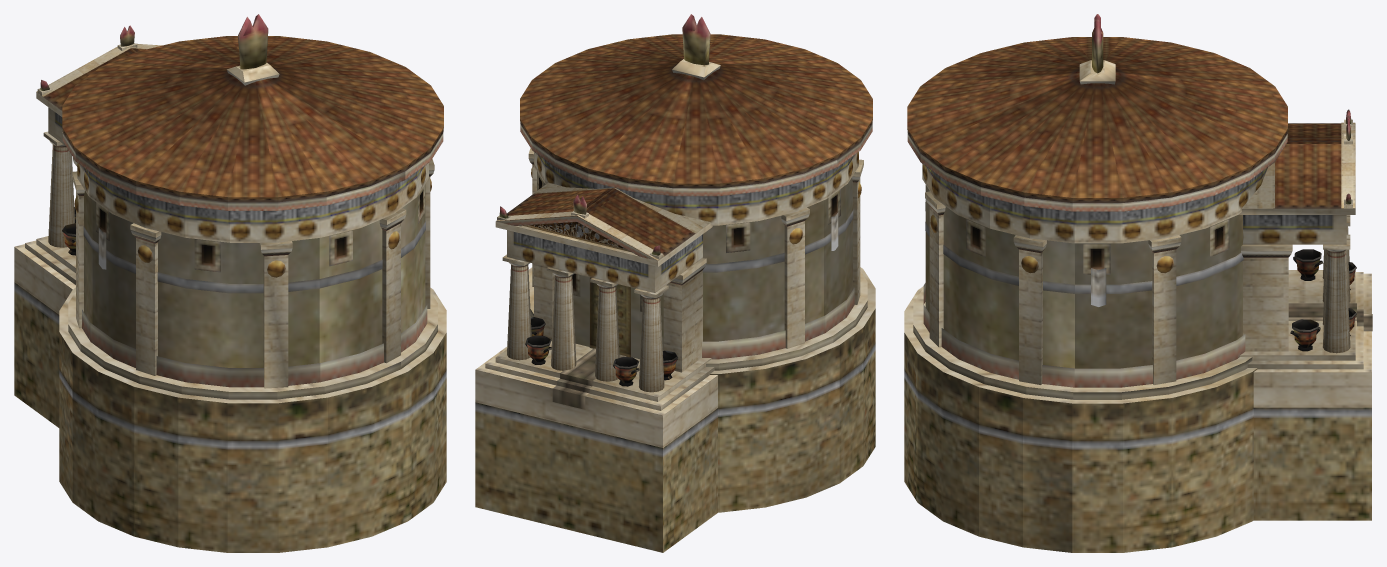
Rendered from s_spartans_gerousia.glb.
The picture shows the model from 3 angles, left to right: view 1: azimuth 30°, elevation 25°; view 2: azimuth 150°, elevation 25°; view 3: azimuth 270°, elevation 25°; orthographic projection. The views are drawn at different scales.
Visible parts, largest first — view 1: s_spartans_gerousia_part0; view 2: s_spartans_gerousia_part0; view 3: s_spartans_gerousia_part0.
Part boxes in pixels (x1,y1,x2,y2): s_spartans_gerousia_part0: (14, 14, 446, 552); s_spartans_gerousia_part0: (475, 14, 875, 552); s_spartans_gerousia_part0: (904, 14, 1372, 552).
Size of the model in its own units: 4.13 by 5.36 by 5.
Materials: 1 (1 with a texture image).
